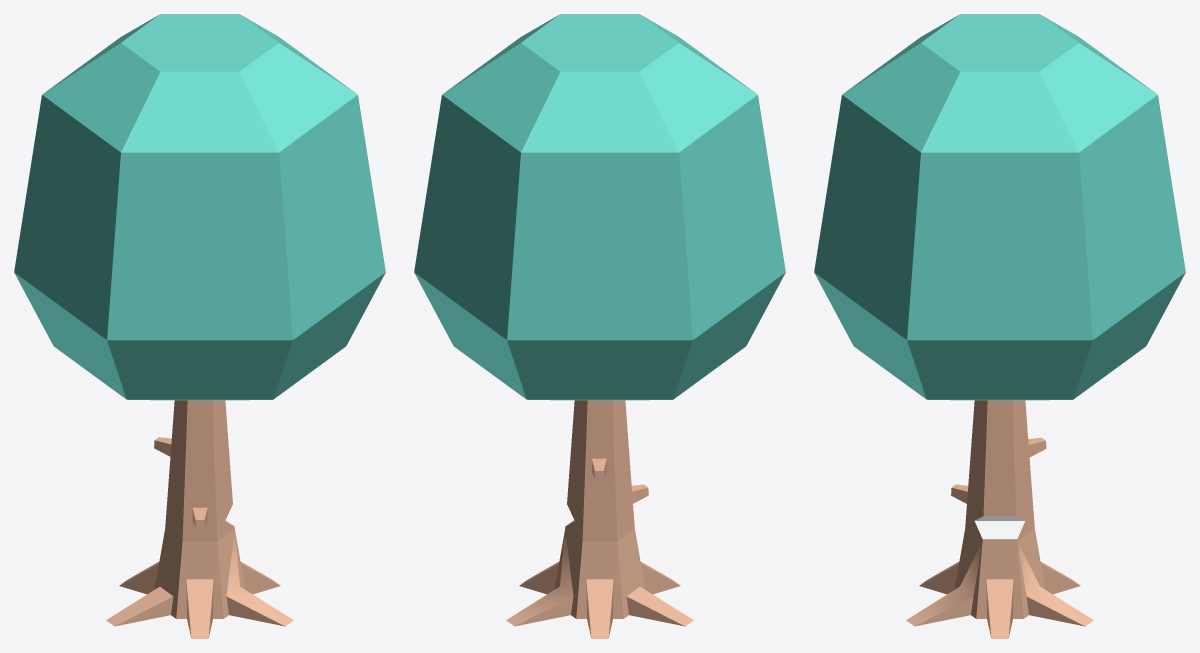
Rendered from tree_stage_25.glb.
3 renders of one model, left to right at view 1: azimuth 30°, elevation 25°; view 2: azimuth 150°, elevation 25°; view 3: azimuth 270°, elevation 25°, orthographic.
Parts seen in each view (by area): view 1: TreeStage25; view 2: TreeStage25; view 3: TreeStage25.
Part boxes in pixels (x1=…): TreeStage25: x1=14, y1=14, x2=385, y2=638; TreeStage25: x1=414, y1=14, x2=785, y2=638; TreeStage25: x1=814, y1=14, x2=1185, y2=638.
Bounding box in the file's own units: 3.36 × 6.44 × 3.88.
